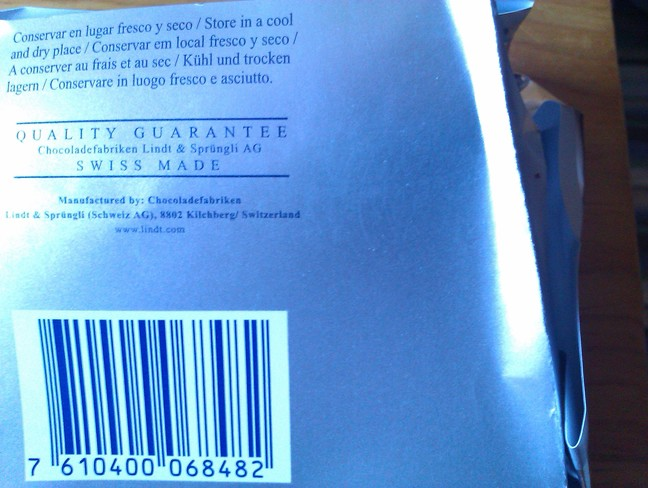barcode: (5, 314, 289, 473)
